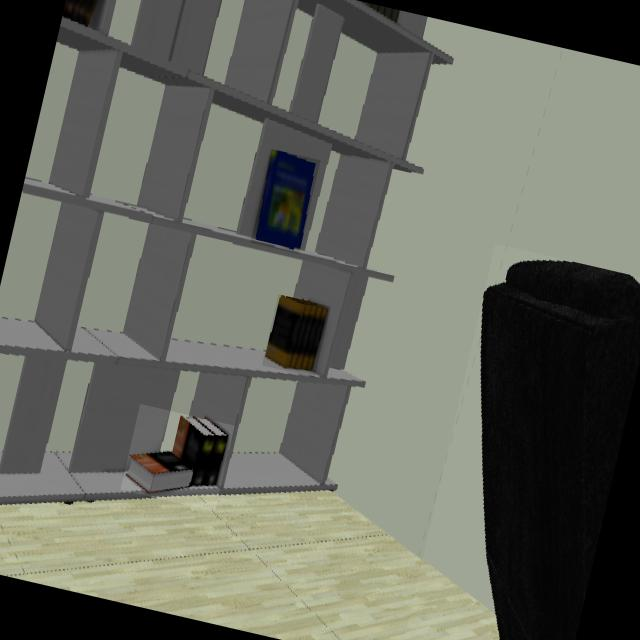book: (126, 417, 229, 496), (255, 150, 315, 250), (264, 295, 329, 375)
chair: (479, 261, 640, 640)
